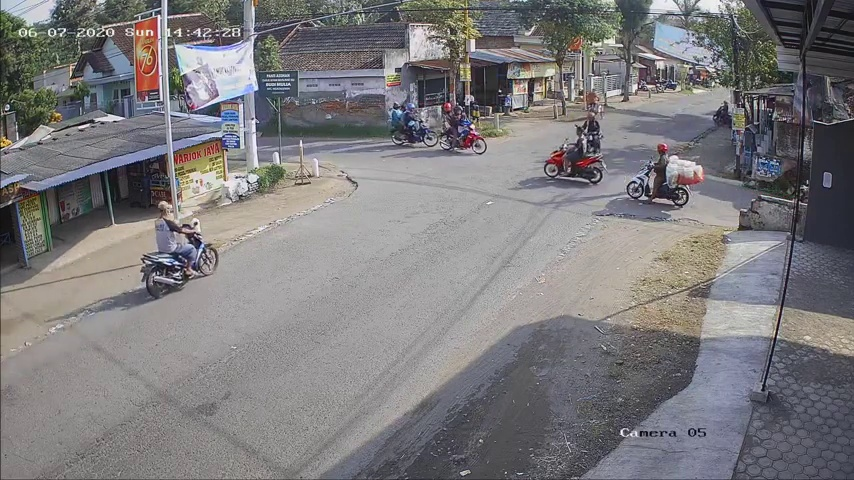motorbike: (139, 202, 221, 296), (630, 138, 691, 207), (547, 127, 603, 184), (440, 103, 487, 155), (391, 100, 437, 150), (582, 111, 602, 159)
